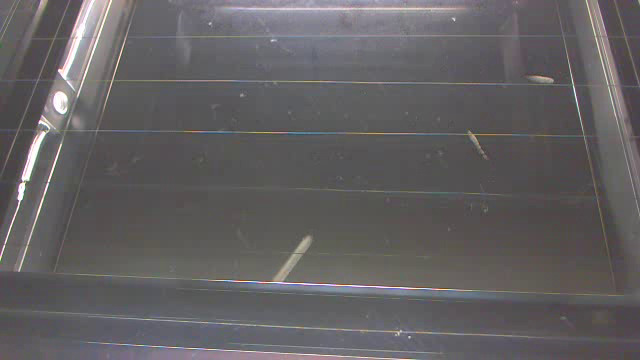alpha: (257, 226, 324, 293), (456, 119, 502, 165), (522, 68, 561, 107)
